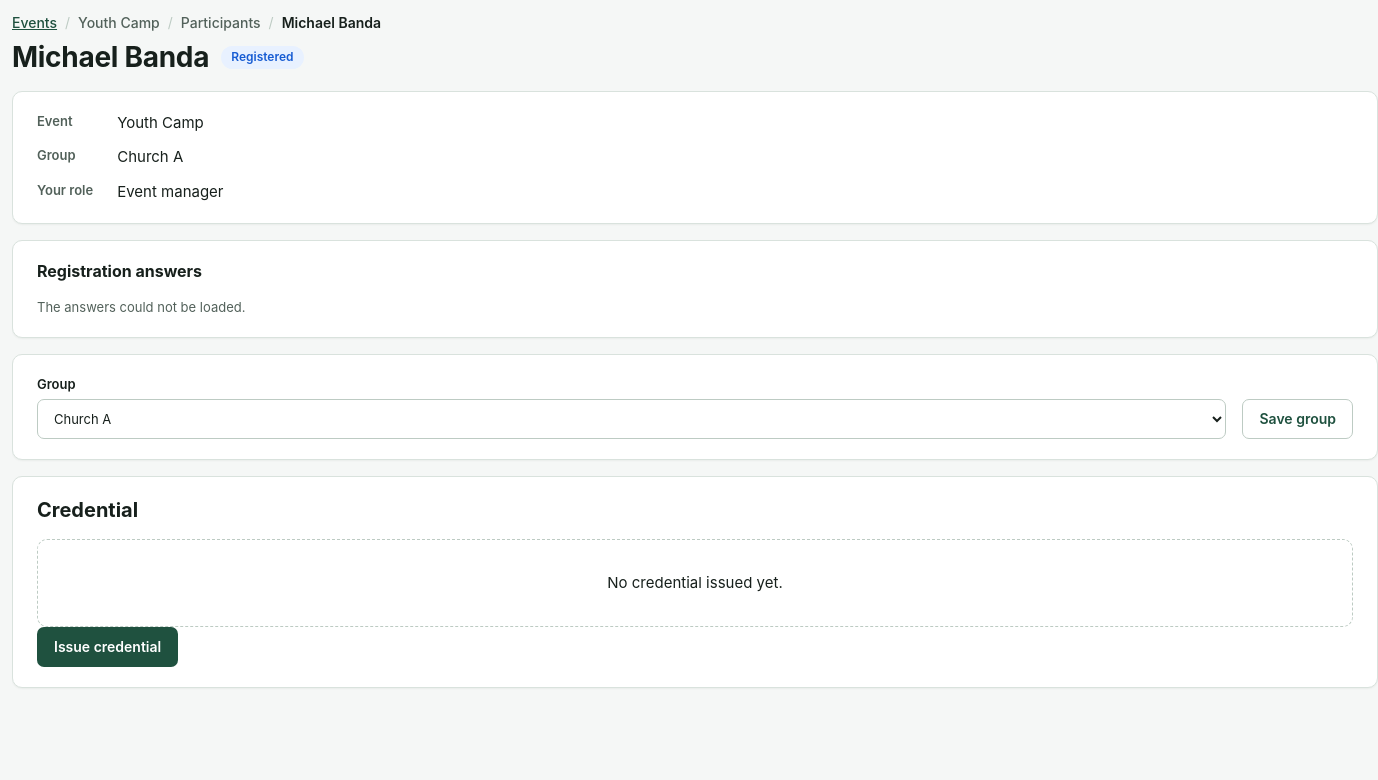
ParticipantDetailPage › saves a new group for the participant
Select "No group" in the dropdown labelled "Group" at (632, 419), box [37, 399, 1226, 439]
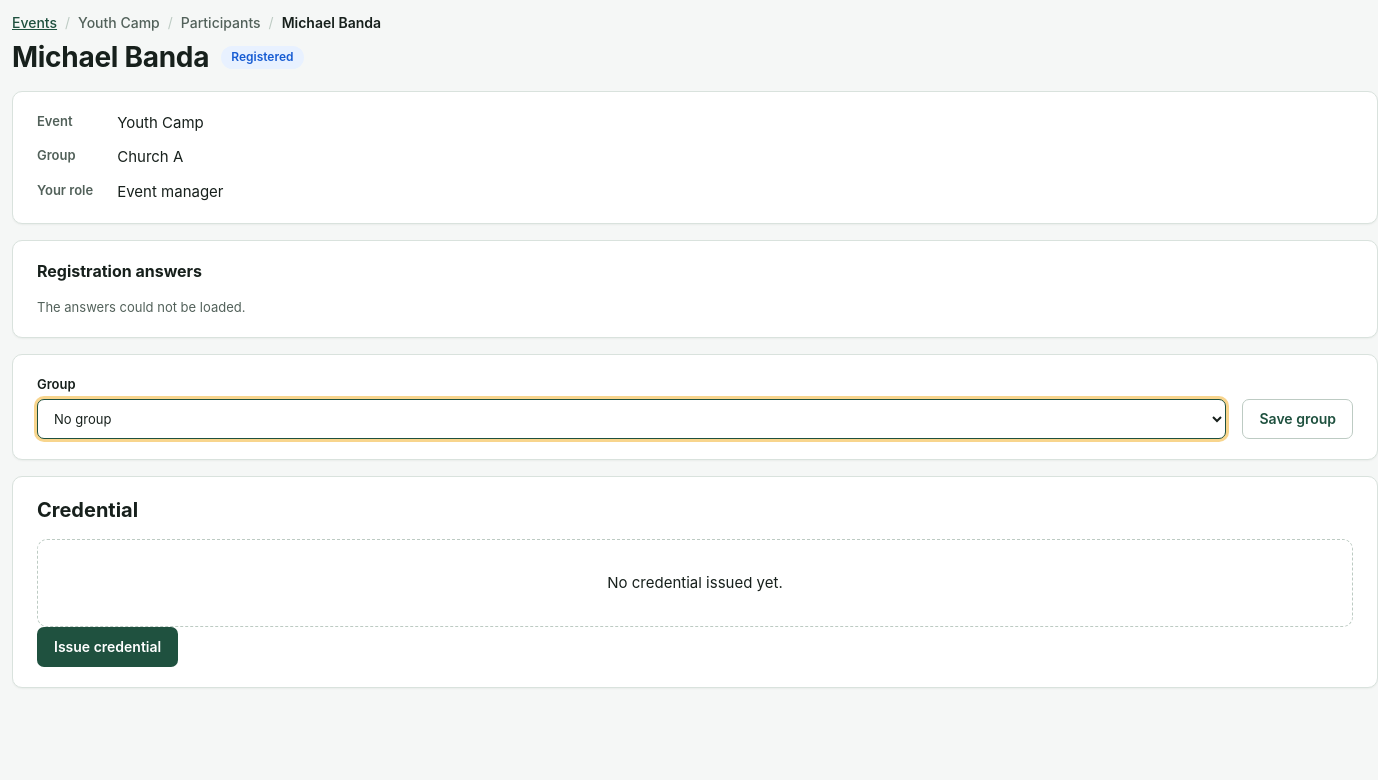
Click the button "Save group" at (1298, 419), box [1242, 399, 1353, 439]
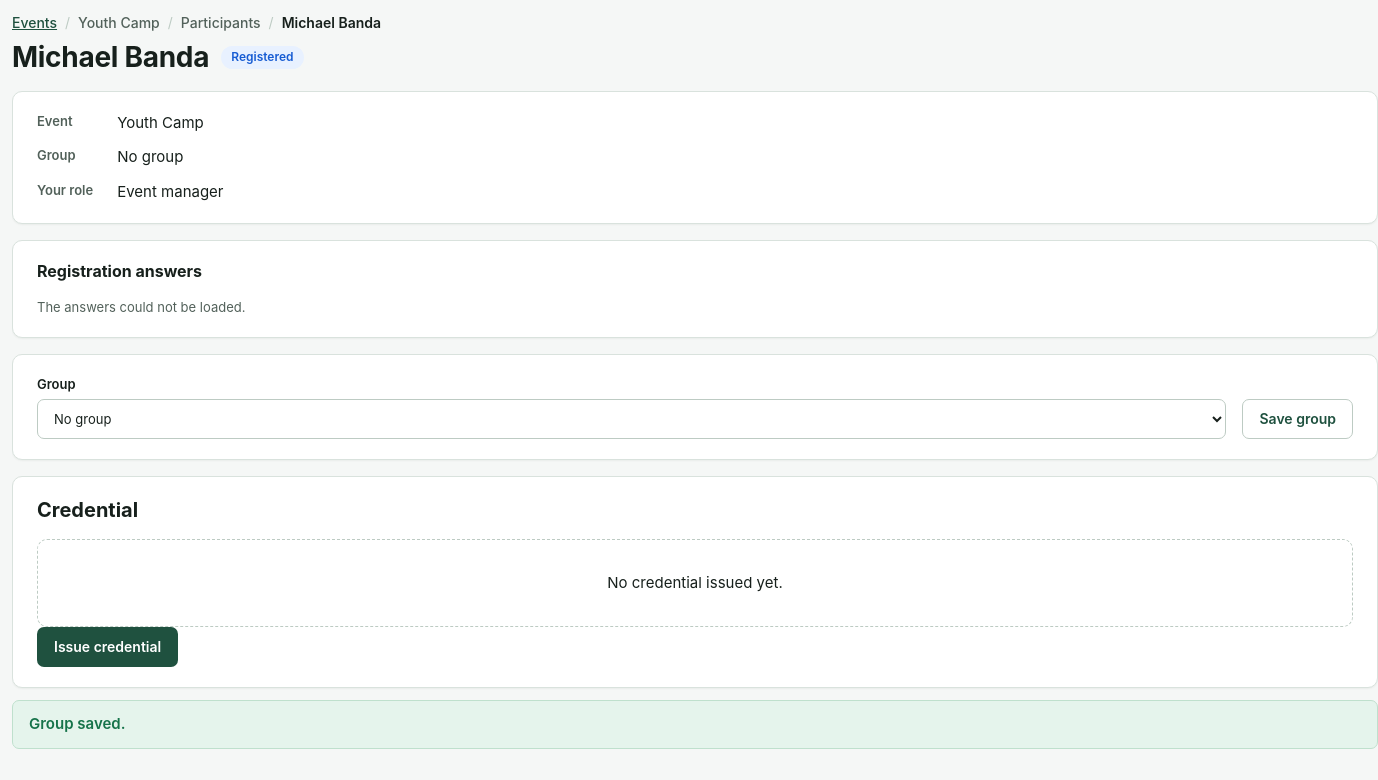
Now the text "Group saved." is shown, box [12, 700, 1377, 749]
